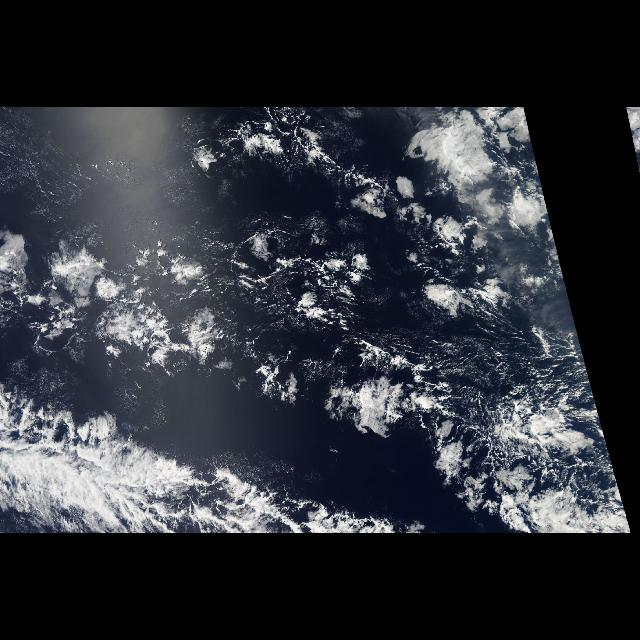Fish: (1, 371, 436, 534)
